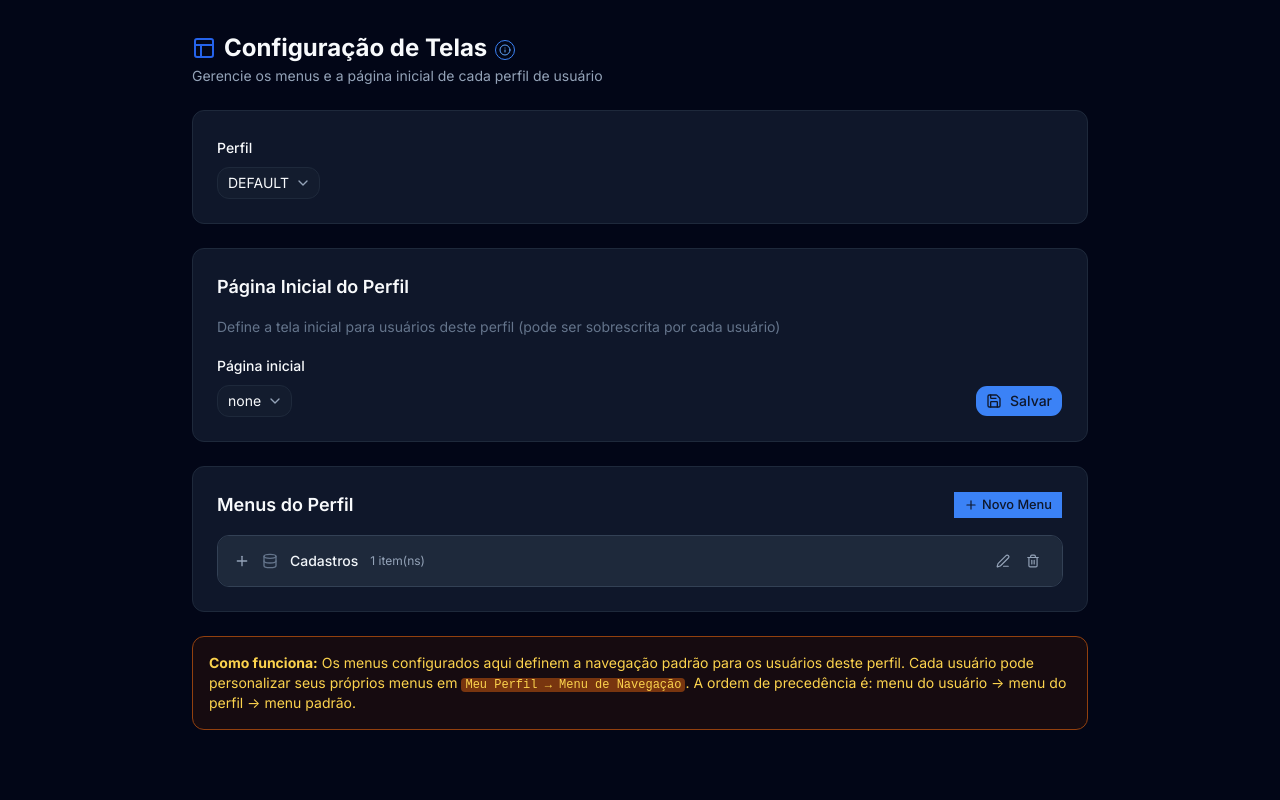
Test: AdminTelasPage › renderiza o heading e os menus do perfil
Expected: the heading "Configuração de Telas" is shown, [224, 32, 515, 64]
Expected: the text "Cadastros" is shown, [290, 551, 358, 571]
Click the button without text next to "Cadastros". click: {"x": 242, "y": 561}
box: [234, 553, 250, 569]
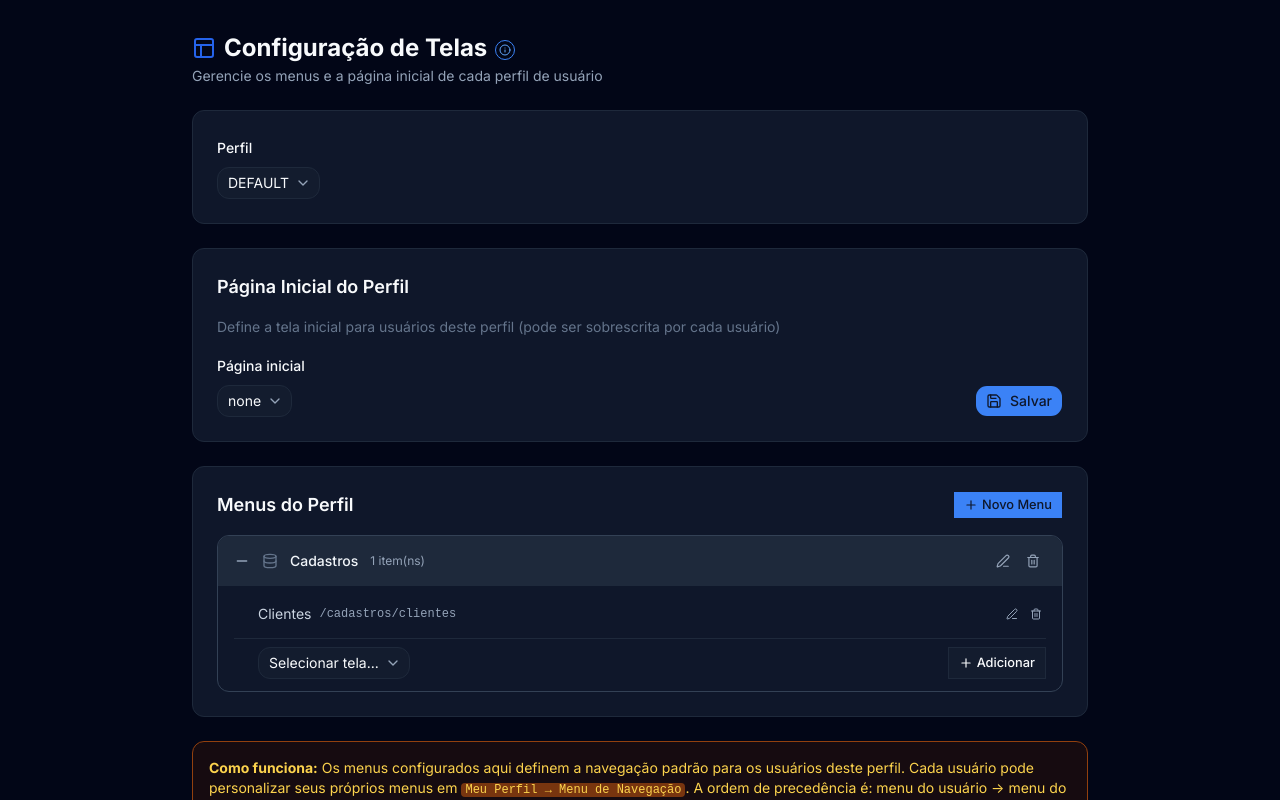
Expected: the text "Clientes" is shown, [258, 604, 311, 624]
Expected: the text "/cadastros/clientes" is shown, [319, 606, 456, 622]
